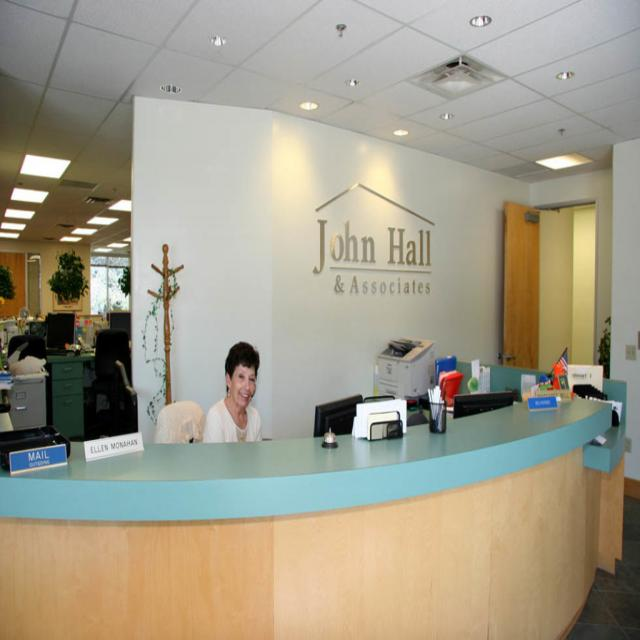chair: (84, 328, 135, 438), (154, 400, 207, 444)
desk: (0, 401, 613, 639)
person: (203, 342, 263, 442)
tv: (46, 312, 75, 351)
